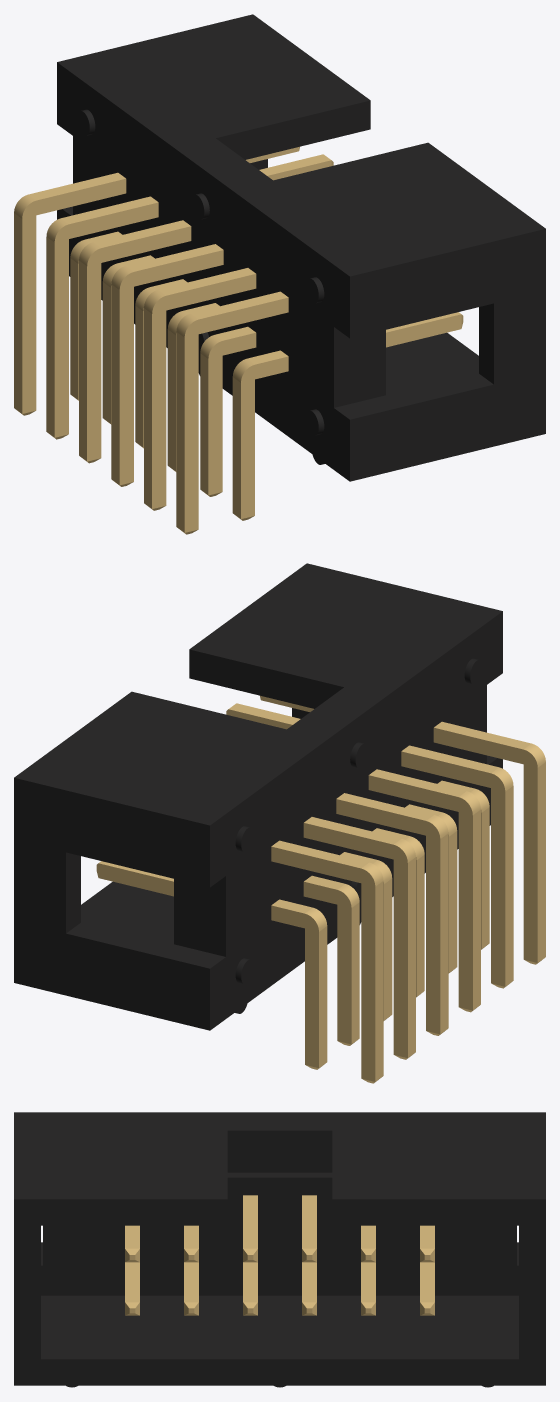
File: kc-idc-header_2x06_p2.54mm_horizontal.glb
3 renders of one model, top to bottom at view 1: azimuth 30°, elevation 25°; view 2: azimuth 150°, elevation 25°; view 3: azimuth 270°, elevation 25°, orthographic. The views are drawn at different scales.
Visible parts, largest first — view 1: 0_0_0_0, 0.75_0.5_0.25_0.9; view 2: 0_0_0_0, 0.75_0.5_0.25_0.9; view 3: 0_0_0_0, 0.75_0.5_0.25_0.9.
Part boxes in pixels (bbox=[...]): 0_0_0_0: bbox=[57, 14, 545, 481]; 0.75_0.5_0.25_0.9: bbox=[14, 146, 463, 534]; 0_0_0_0: bbox=[14, 563, 502, 1030]; 0.75_0.5_0.25_0.9: bbox=[96, 695, 545, 1083]; 0_0_0_0: bbox=[14, 1112, 545, 1387]; 0.75_0.5_0.25_0.9: bbox=[125, 1195, 434, 1315].
Size of the model in its own units: 1.36 by 1.21 by 2.29.
